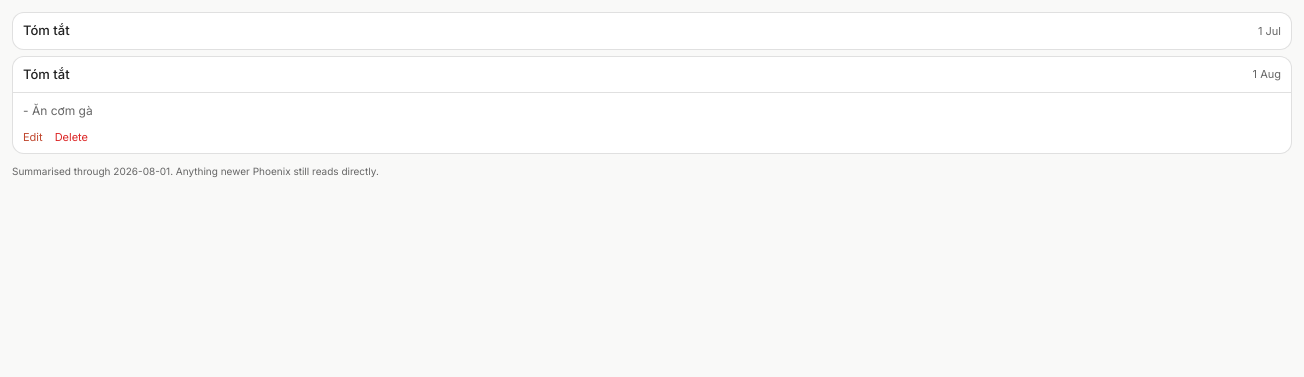
Test: MemorySections › cancels an edit without saving
This screenshot has width=1304, height=377.
Click the button "Edit": coordinates (33, 137) [23,128,43,145]
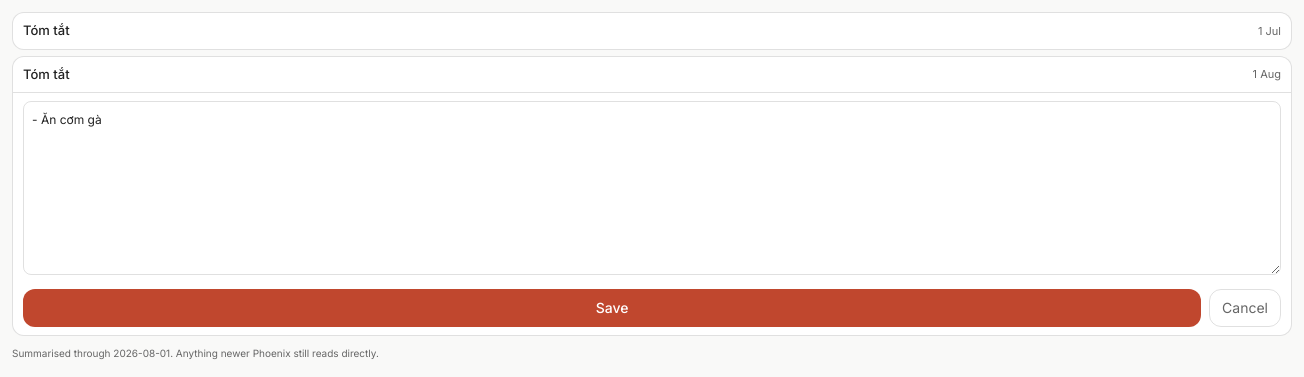
Replace the text in the text box named "Edit entry" with "- Nhầm": coordinates (652, 188) [23,101,1281,275]
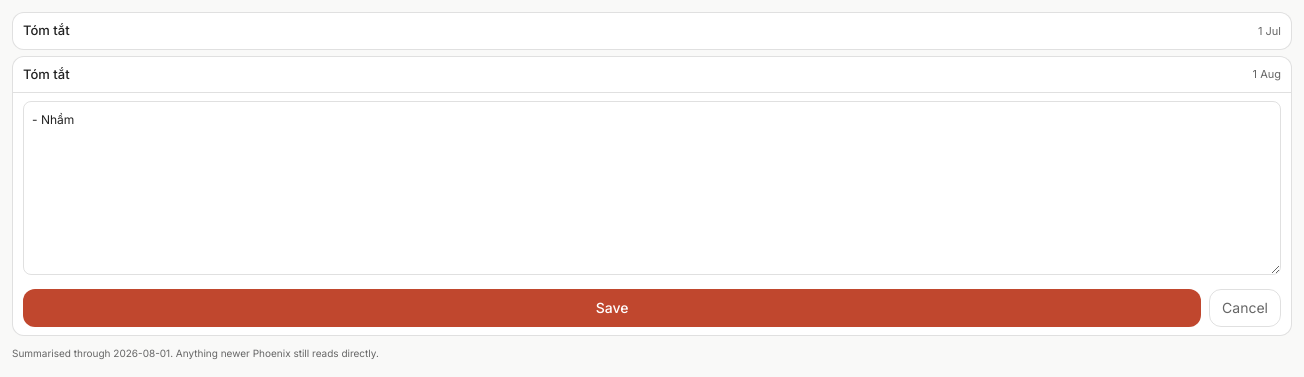
Click the button "Cancel": coordinates (1245, 308) [1209,289,1281,327]
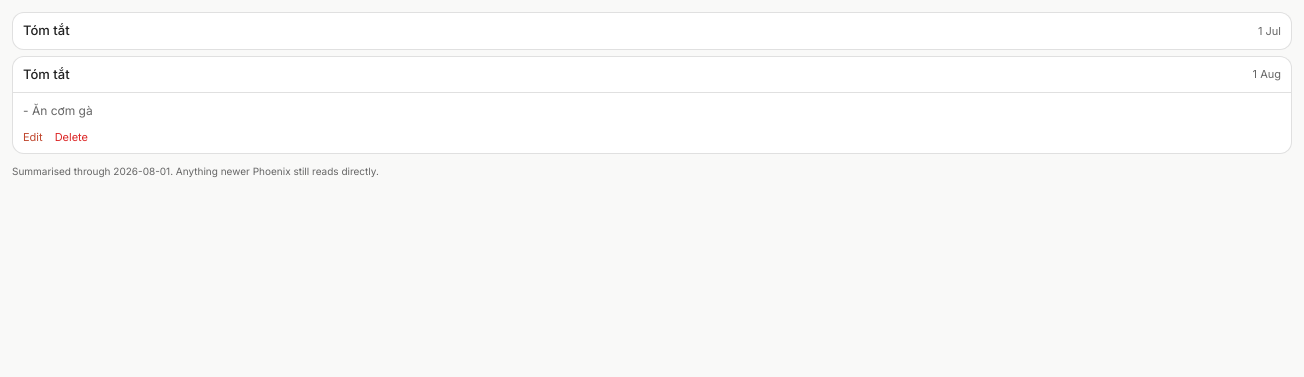
Check: the text "- Ăn cơm gà" is shown, box [23,103,93,118]
